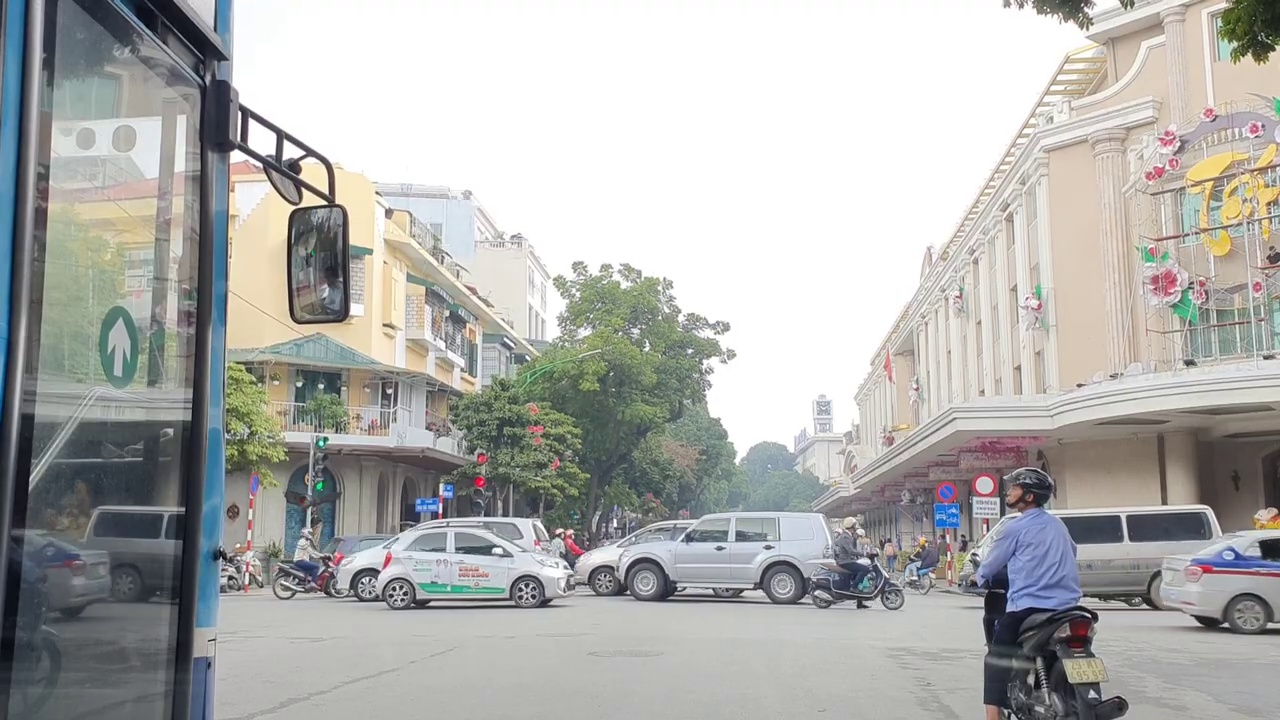vehicle-plate: (1059, 657, 1106, 683)
